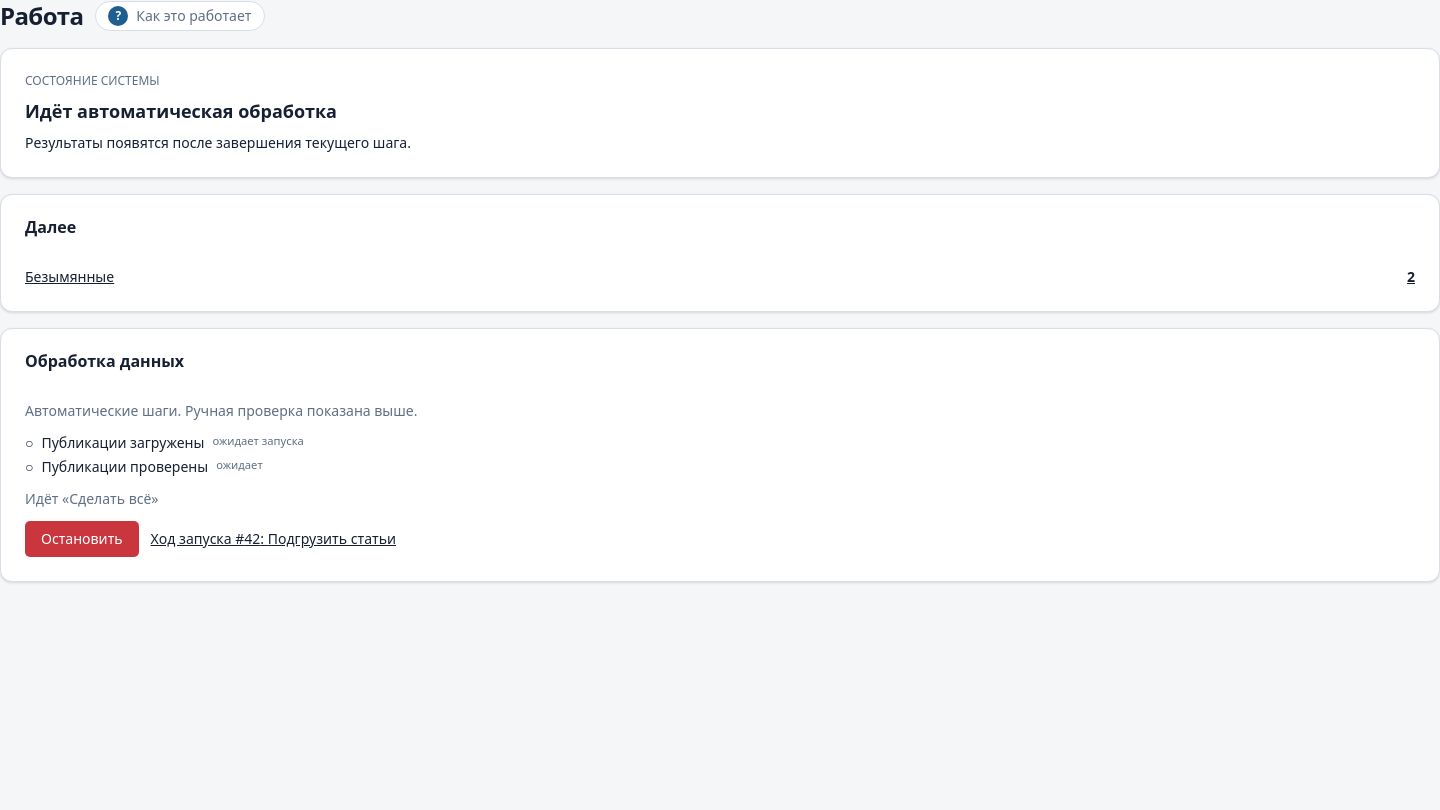
Test case: stops a live run and shows a refusal
Expected: the heading "Идёт автоматическая обработка" is shown, [25,99,337,123]
What coordinates should you click on to do the following:
click the button "Остановить"
I would click on:
 (82, 539)
Its box is [25,521,139,557].
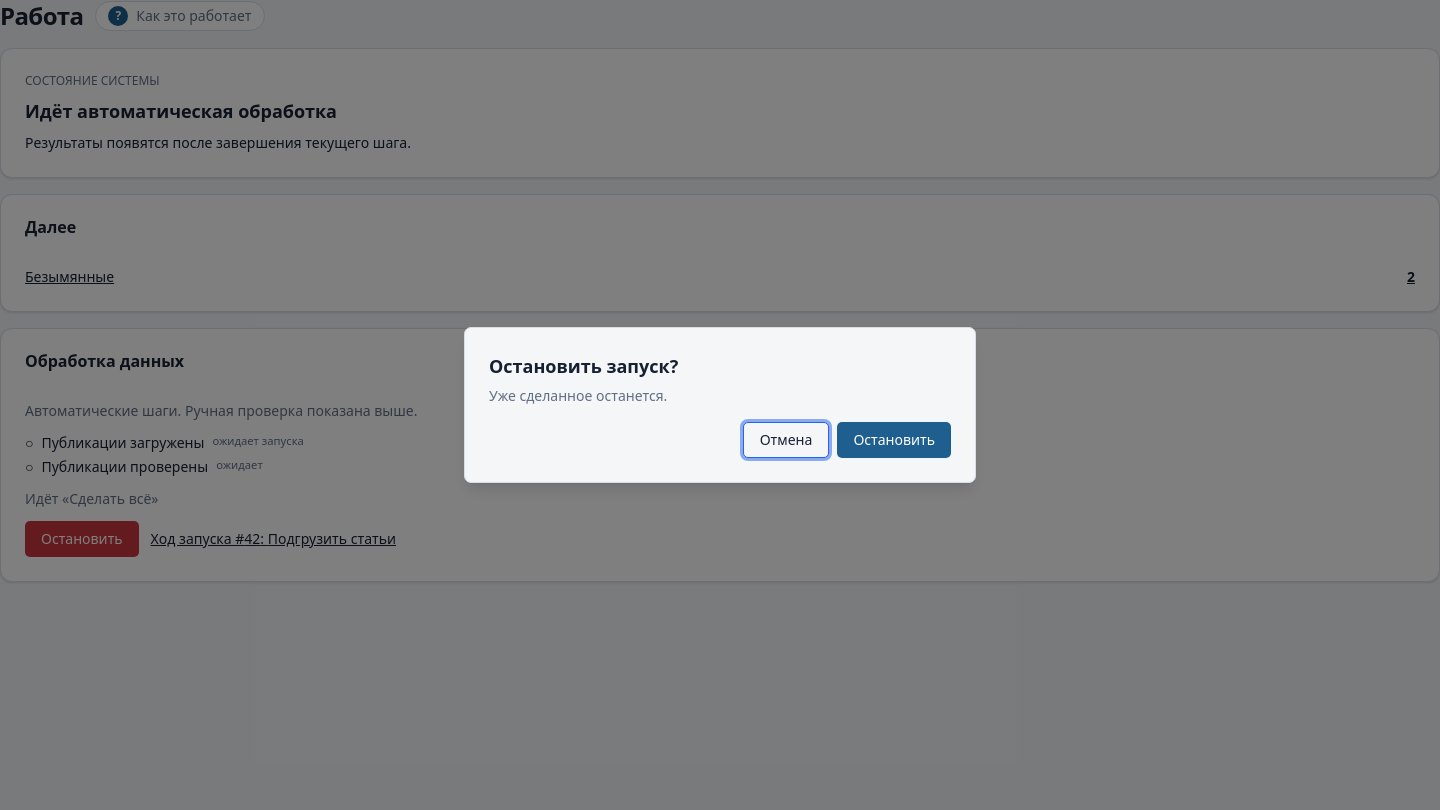
What coordinates should you click on to do the following:
click the button "Остановить"
I would click on:
 (894, 440)
Its box is [837,422,951,458].
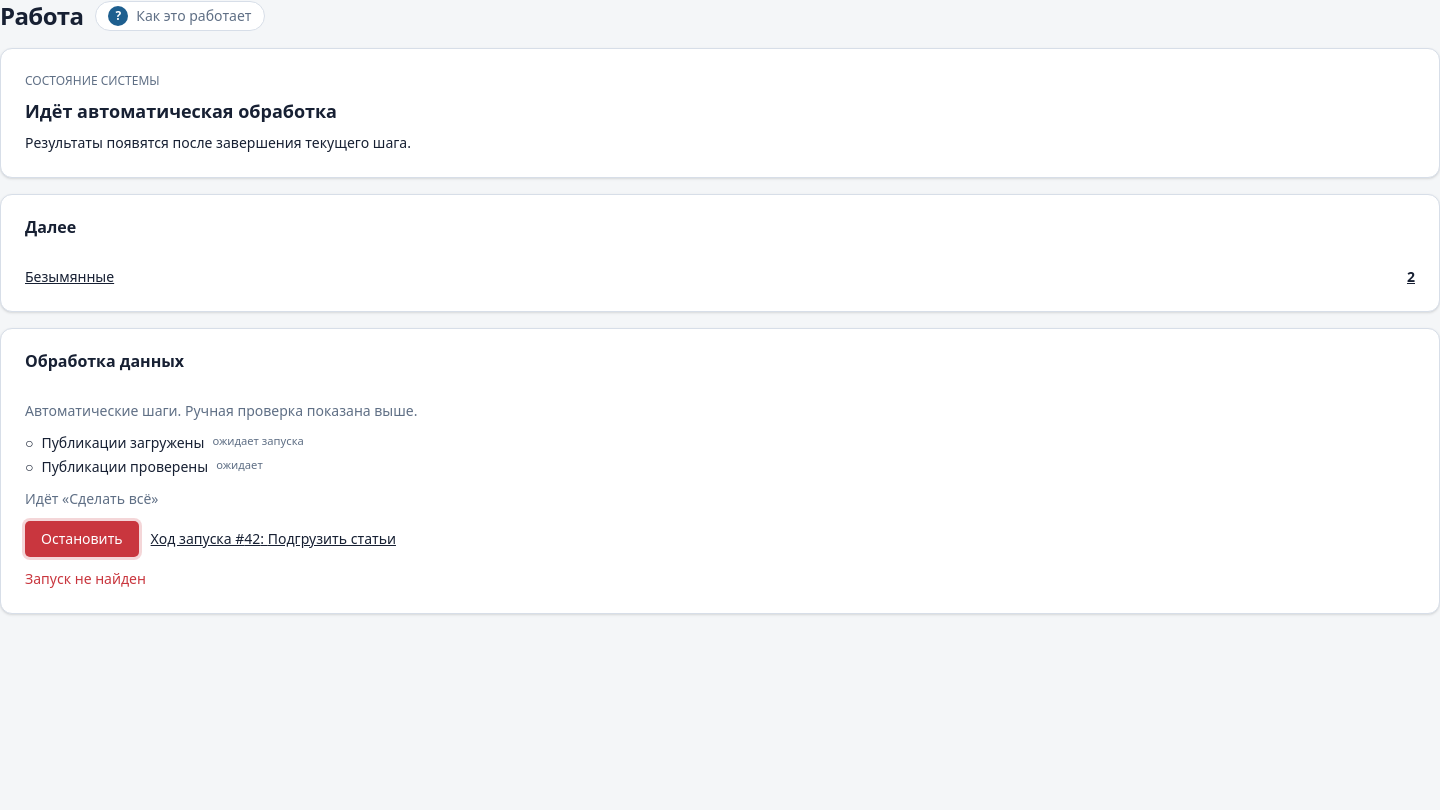
Now the text "Запуск не найден" is shown, box [25,569,146,588]
